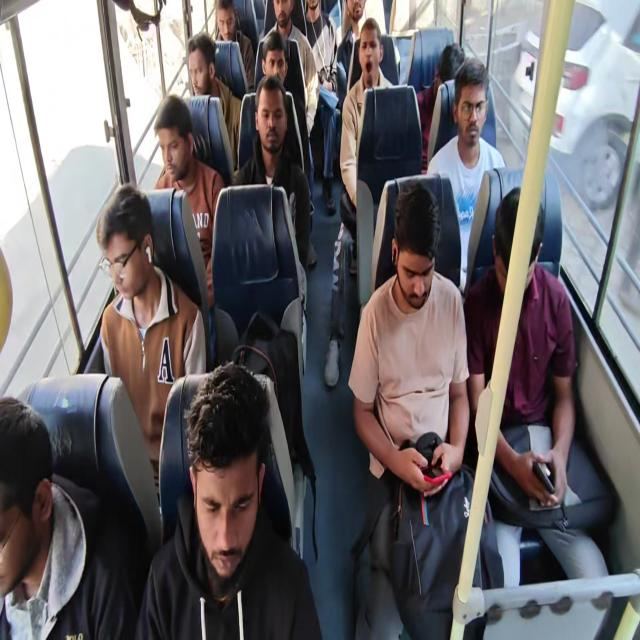person: (348, 181, 488, 638), (463, 186, 613, 608), (134, 361, 322, 639), (96, 183, 207, 503), (0, 395, 138, 639), (324, 18, 394, 388), (425, 57, 506, 295), (152, 94, 225, 309), (234, 74, 312, 272), (293, 0, 339, 214), (260, 0, 319, 134), (187, 33, 242, 168), (416, 42, 464, 170), (336, 0, 386, 94), (293, 0, 338, 93), (212, 0, 255, 92)
